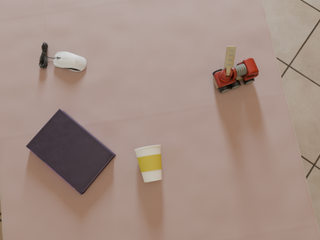book: (26, 109, 116, 194)
cup: (135, 145, 162, 182)
mouse: (53, 52, 86, 71)
toy_car: (213, 46, 259, 93)
